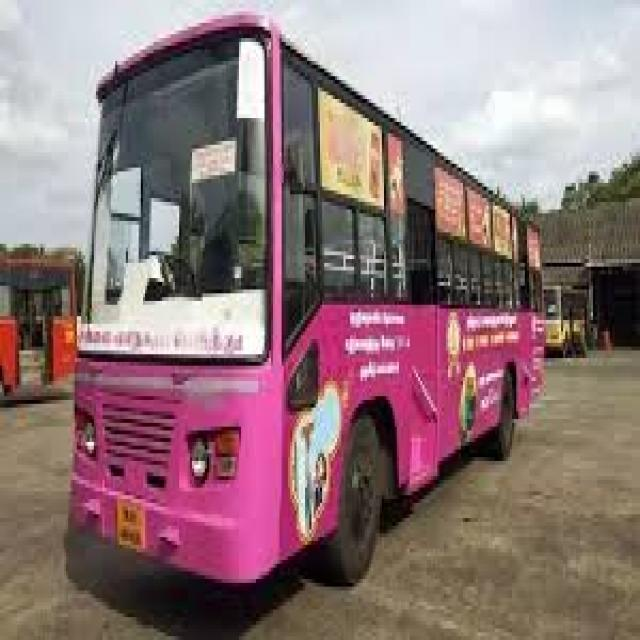Bus: (71, 33, 539, 580)
